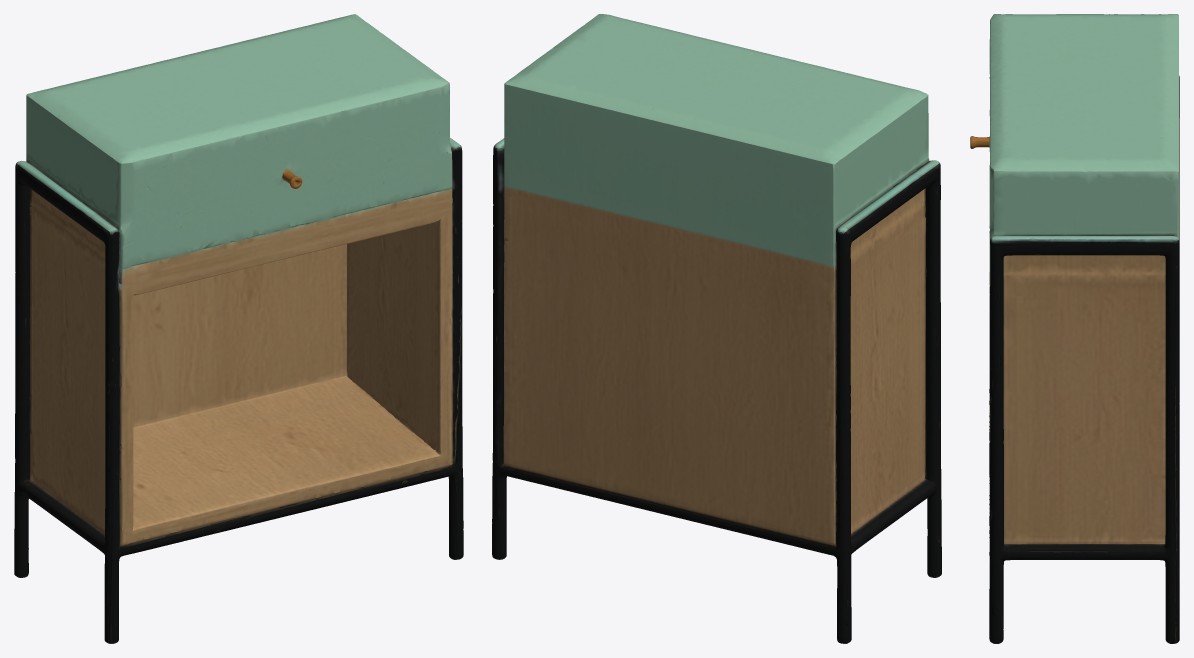
File: item_9cc58f2a.glb
3 views of the same model, side by side, from view 1: azimuth 30°, elevation 25°; view 2: azimuth 150°, elevation 25°; view 3: azimuth 270°, elevation 25° (orthographic). The views are drawn at different scales.
Visible parts, largest first — view 1: world; view 2: world; view 3: world.
Boxes of the visible parts, box(x1,y1,x2,y2) form: world: box(14, 14, 463, 643); world: box(492, 14, 941, 643); world: box(970, 14, 1179, 643).
Bounding box in the file's own units: 0.5036 × 0.65 × 0.2618.
1 material, 1 textured.
